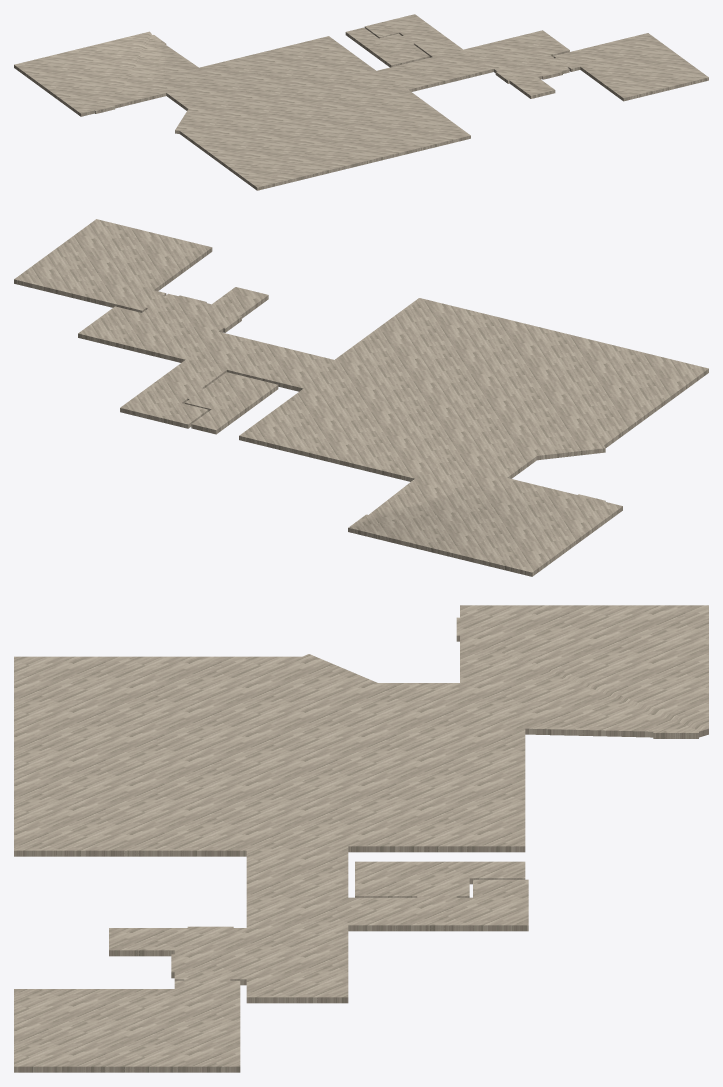
Rendered from 1989_kitchen_Floor_Dollar.gltf.
3 views of the same model, one above another, from view 1: azimuth 30°, elevation 25°; view 2: azimuth 150°, elevation 25°; view 3: azimuth 270°, elevation 25° (orthographic). The views are drawn at different scales.
Visible parts, largest first — view 1: Line23799; view 2: Line23799; view 3: Line23799.
Part boxes in pixels (<box>): Line23799: <box>14,14,708,190</box>; Line23799: <box>14,219,708,576</box>; Line23799: <box>14,605,708,1072</box>.
Bounding box in the file's own units: 33.3 × 0.3 × 21.2.
1 material, 1 textured.
